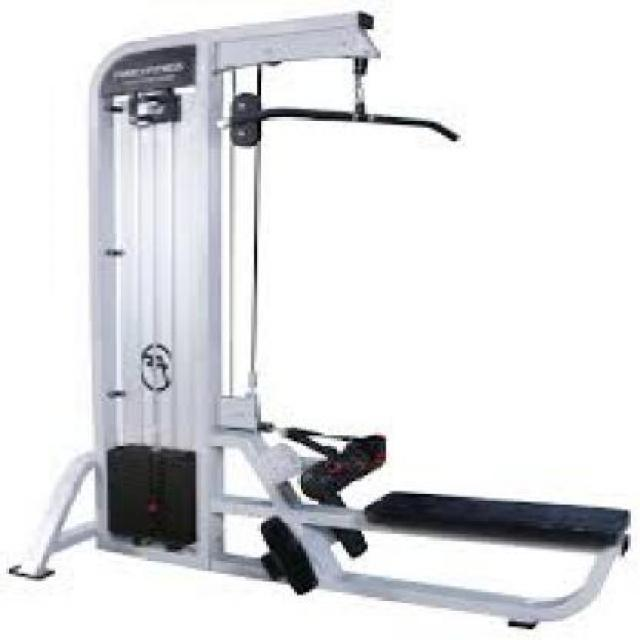Lat Pull Down: (6, 6, 639, 632)
